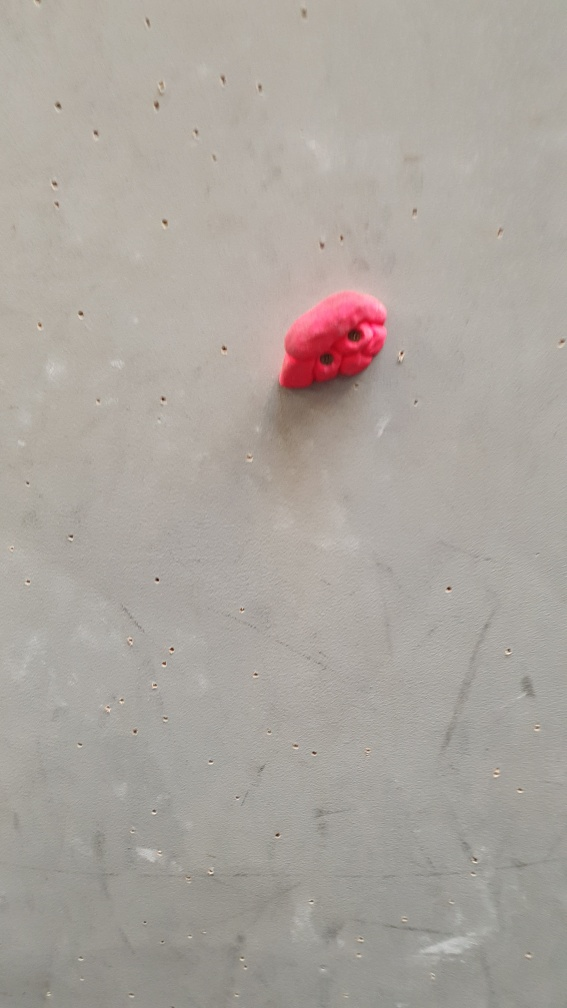Jug: (278, 290, 392, 395)
